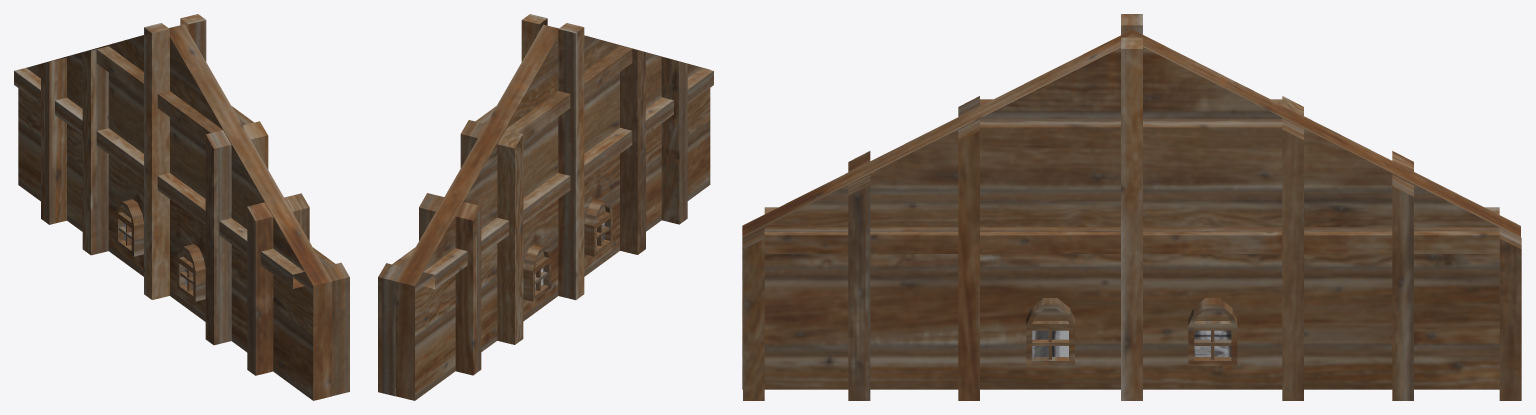
The model's file is Blacksnmith_backtwall.fbx.
3 renders of one model, left to right at view 1: azimuth 30°, elevation 25°; view 2: azimuth 150°, elevation 25°; view 3: azimuth 270°, elevation 25°, orthographic. The views are drawn at different scales.
Parts seen in each view (by area): view 1: Blacksmith_backwall; view 2: Blacksmith_backwall; view 3: Blacksmith_backwall.
Part boxes in pixels (x1,y1,x2,y2): Blacksmith_backwall: (14, 14, 349, 400); Blacksmith_backwall: (378, 14, 713, 400); Blacksmith_backwall: (742, 14, 1521, 400).
Bounding box in the file's own units: 10.9 × 51.17 × 103.
